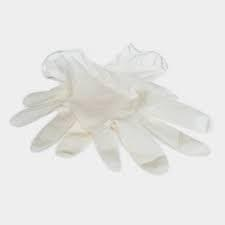Glove: (11, 45, 208, 173)
